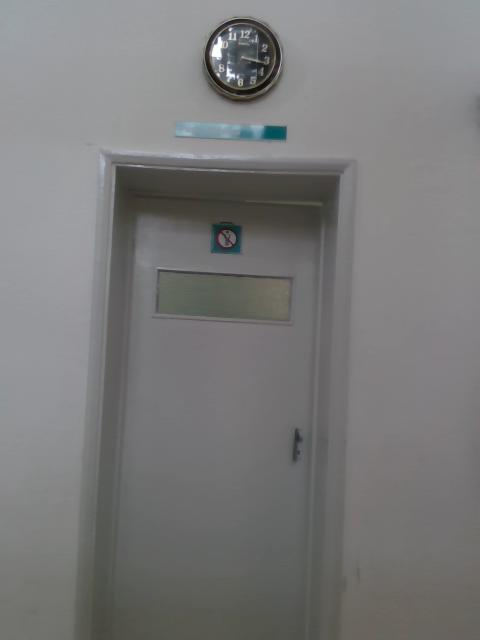closed_door: (95, 164, 345, 638)
